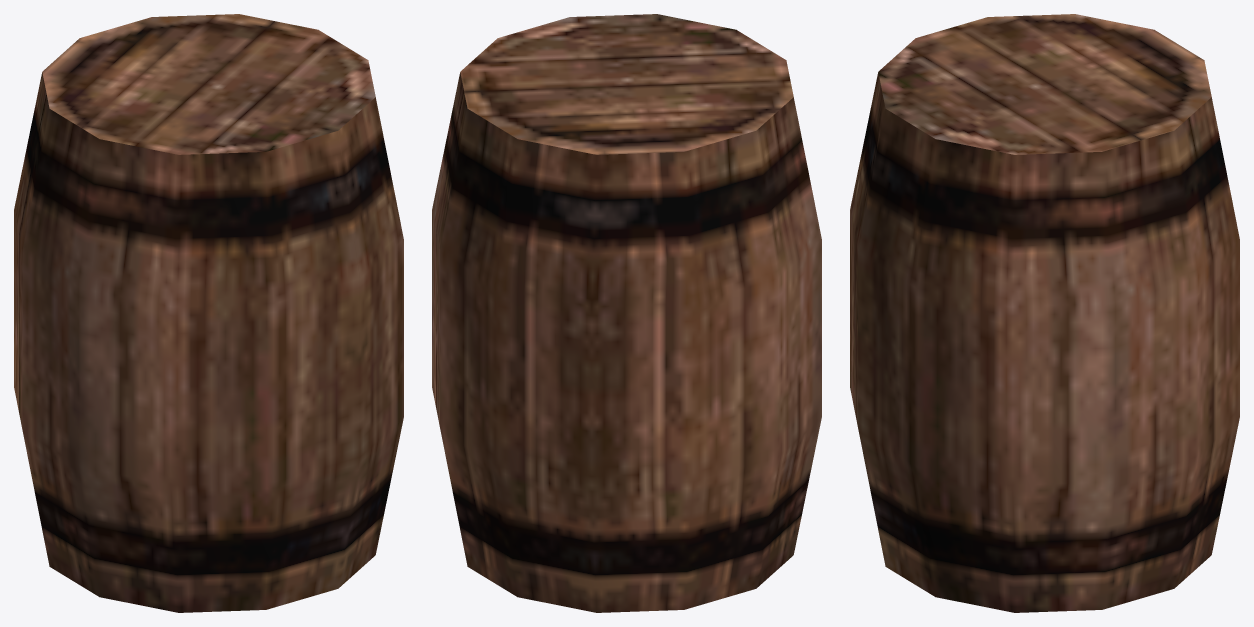
File: barrel.dae
3 renders of one model, left to right at view 1: azimuth 30°, elevation 25°; view 2: azimuth 150°, elevation 25°; view 3: azimuth 270°, elevation 25°, orthographic.
Visible parts, largest first — view 1: wrld_barrel_a_dae.001; view 2: wrld_barrel_a_dae.001; view 3: wrld_barrel_a_dae.001.
Part boxes in pixels (<box>): wrld_barrel_a_dae.001: <box>14,14,403,612</box>; wrld_barrel_a_dae.001: <box>432,14,821,612</box>; wrld_barrel_a_dae.001: <box>850,14,1239,612</box>.
Size of the model in its own units: 1.71 by 1.71 by 2.21.
1 material, 1 textured.
